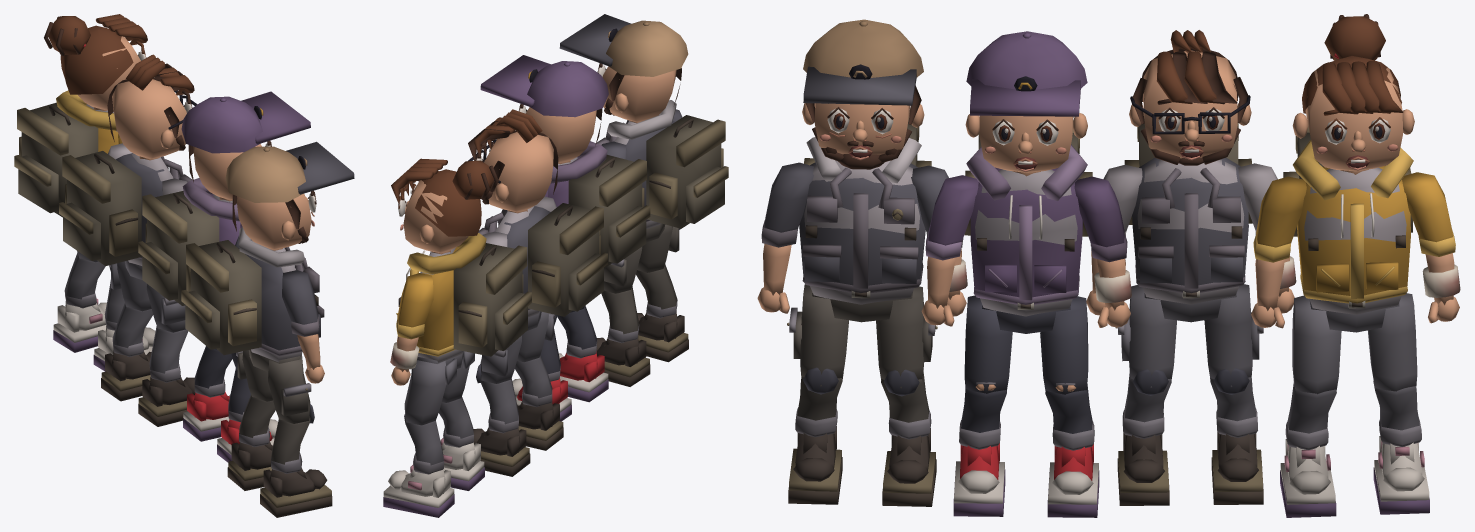
The picture shows the model from 3 angles, left to right: view 1: azimuth 30°, elevation 25°; view 2: azimuth 150°, elevation 25°; view 3: azimuth 270°, elevation 25°; orthographic projection. The views are drawn at different scales.
Visible parts, largest first — view 1: torso_pal_picketWhite, survivor03_torso_pal_picketWhite, head_pal_picketWhite, survivor04_torso_pal_picketWhite, survivor02_torso_pal_picketWhite, survivor02_head_pal_picketWhite, survivor03_head_pal_picketWhite, survivor04_head_pal_picketWhite, footR_pal_picketWhite, legR_pal_picketWhite, survivor03_footR_pal_picketWhite, survivor04_footL_pal_picketWhite (+18 smaller); view 2: survivor04_torso_pal_picketWhite, torso_pal_picketWhite, survivor03_torso_pal_picketWhite, head_pal_picketWhite, survivor02_head_pal_picketWhite, survivor04_head_pal_picketWhite, survivor02_torso_pal_picketWhite, survivor03_head_pal_picketWhite, survivor04_footL_pal_picketWhite, survivor04_legL_pal_picketWhite, survivor03_footL_pal_picketWhite, footL_pal_picketWhite (+21 smaller); view 3: torso_pal_picketWhite, survivor04_torso_pal_picketWhite, survivor02_torso_pal_picketWhite, survivor03_torso_pal_picketWhite, head_pal_picketWhite, survivor02_head_pal_picketWhite, survivor04_head_pal_picketWhite, survivor03_head_pal_picketWhite, survivor04_legR_pal_picketWhite, legR_pal_picketWhite, legL_pal_picketWhite, survivor03_legR_pal_picketWhite (+37 smaller).
Boxes of the visible parts, left/top/right/bottom form: torso_pal_picketWhite: left=181, top=227, right=324, bottom=362; survivor03_torso_pal_picketWhite: left=59, top=151, right=192, bottom=266; head_pal_picketWhite: left=225, top=141, right=354, bottom=250; survivor04_torso_pal_picketWhite: left=14, top=90, right=118, bottom=217; survivor02_torso_pal_picketWhite: left=138, top=178, right=240, bottom=305; survivor02_head_pal_picketWhite: left=181, top=91, right=310, bottom=201; survivor03_head_pal_picketWhite: left=107, top=54, right=197, bottom=160; survivor04_head_pal_picketWhite: left=44, top=14, right=147, bottom=110; footR_pal_picketWhite: left=260, top=468, right=332, bottom=517; legR_pal_picketWhite: left=268, top=354, right=311, bottom=423; survivor03_footR_pal_picketWhite: left=138, top=377, right=195, bottom=426; survivor04_footL_pal_picketWhite: left=53, top=298, right=106, bottom=352; survivor04_torso_pal_picketWhite: left=396, top=233, right=531, bottom=362; torso_pal_picketWhite: left=596, top=100, right=728, bottom=228; survivor03_torso_pal_picketWhite: left=478, top=203, right=607, bottom=317; head_pal_picketWhite: left=559, top=14, right=688, bottom=123; survivor02_head_pal_picketWhite: left=480, top=55, right=608, bottom=164; survivor04_head_pal_picketWhite: left=391, top=158, right=498, bottom=254; survivor02_torso_pal_picketWhite: left=548, top=141, right=650, bottom=268; survivor03_head_pal_picketWhite: left=468, top=109, right=558, bottom=213; survivor04_footL_pal_picketWhite: left=383, top=464, right=454, bottom=517; survivor04_legL_pal_picketWhite: left=404, top=360, right=446, bottom=425; survivor03_footL_pal_picketWhite: left=473, top=427, right=530, bottom=476; footL_pal_picketWhite: left=596, top=336, right=650, bottom=386; torso_pal_picketWhite: left=799, top=117, right=931, bottom=304; survivor04_torso_pal_picketWhite: left=1283, top=126, right=1413, bottom=314; survivor02_torso_pal_picketWhite: left=964, top=129, right=1092, bottom=316; survivor03_torso_pal_picketWhite: left=1124, top=118, right=1252, bottom=304; head_pal_picketWhite: left=802, top=19, right=924, bottom=169; survivor02_head_pal_picketWhite: left=965, top=31, right=1087, bottom=176; survivor04_head_pal_picketWhite: left=1292, top=14, right=1414, bottom=174; survivor03_head_pal_picketWhite: left=1129, top=30, right=1251, bottom=165; survivor04_legR_pal_picketWhite: left=1292, top=295, right=1341, bottom=394; legR_pal_picketWhite: left=787, top=284, right=848, bottom=378; legL_pal_picketWhite: left=876, top=286, right=937, bottom=379; survivor03_legR_pal_picketWhite: left=1115, top=285, right=1176, bottom=379.
Bounding box in the file's own units: 0.691 × 1.45 × 2.02.
